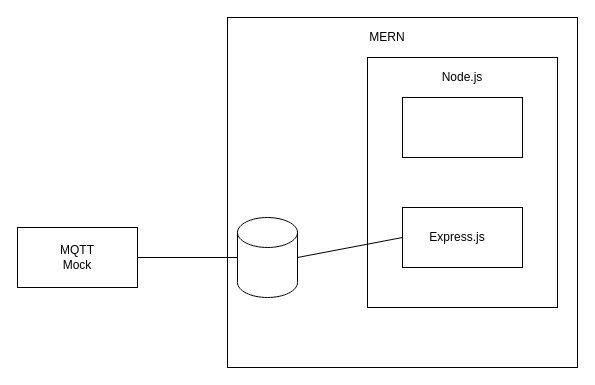
Some shapes in this 595 by 385 pixel diagram are drawn without their labels. The shapes that lost their labels are listed below. From the top down, each one's centre as x and y in pixels, then its label:
pixel 462 127: React.js
pixel 267 257: MongoDB
